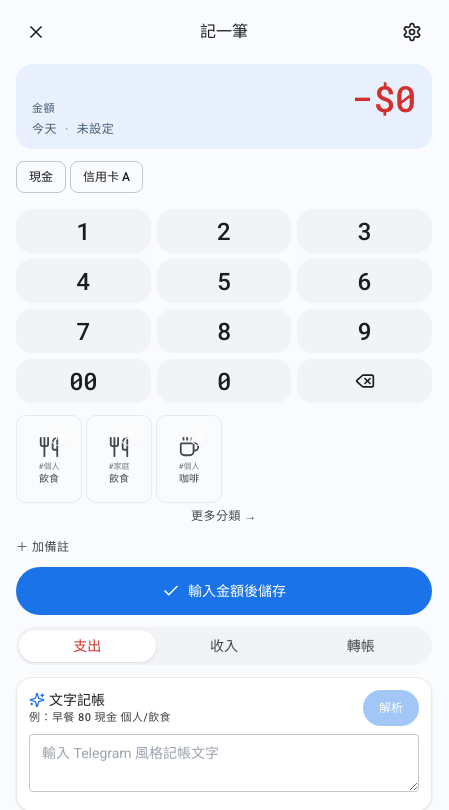
Test: QuickEntryPage (M3 v2.0) › blocks submit and toasts when no category is selected
Check: the text "記一筆" is shown, box [200,20,248,44]
Note: amount only
Click the button "5" at point(224, 281), box [157,259,291,303]
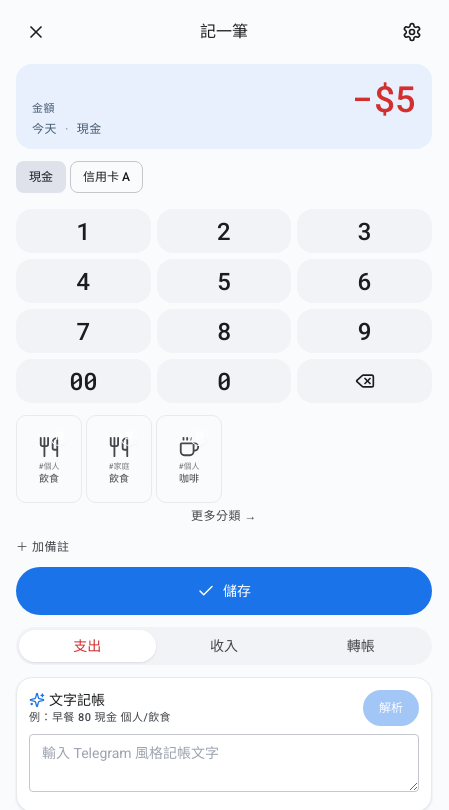
Click the button "儲存" at point(224, 591), box [16,567,432,615]
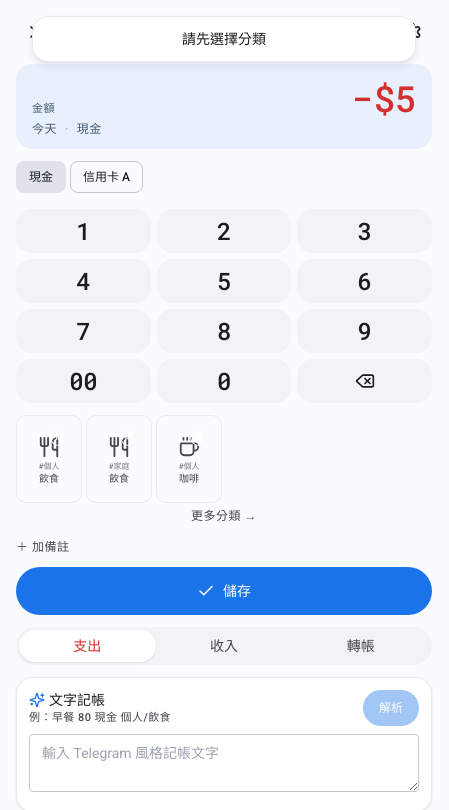
Check: the text "請先選擇分類" is shown, box [182,29,266,49]
